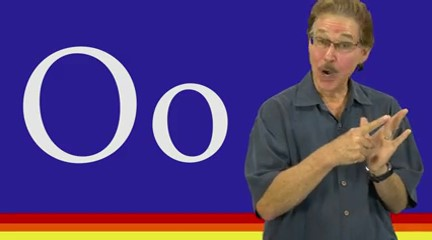E: (324, 105, 418, 165)
